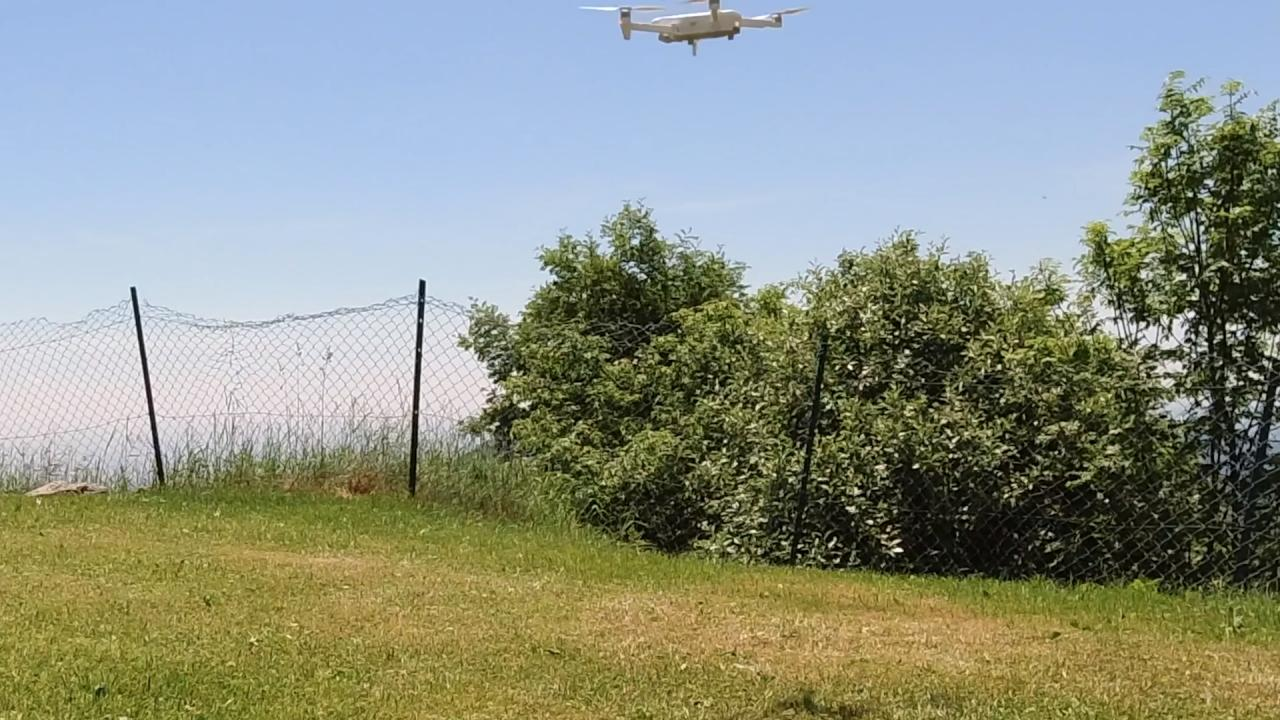Drone: (559, 0, 820, 65)
